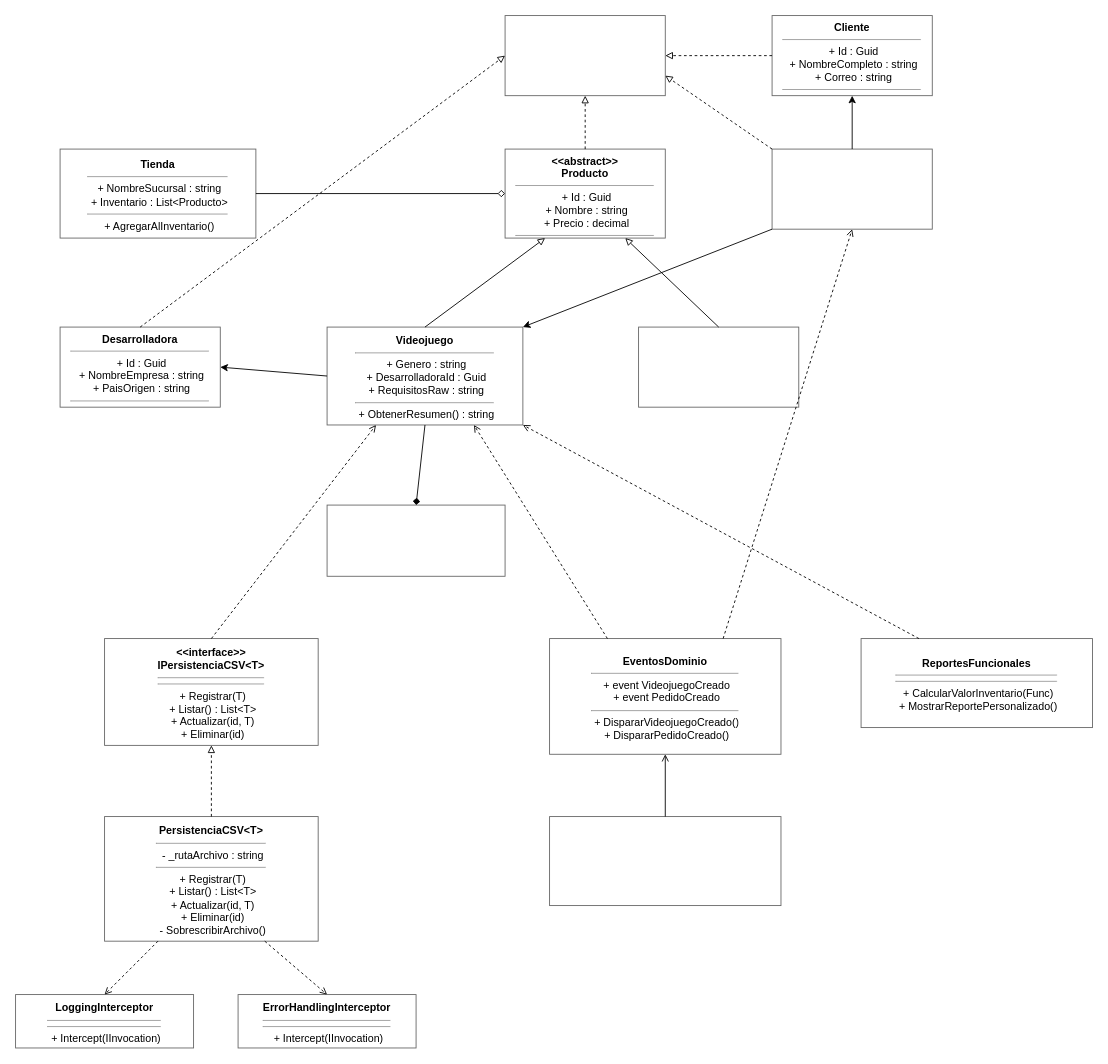
Some shapes in this 1108 by 1064 pixel diagram are drawn without their labels. The shapes that lost their labels are listed below. From the top down, each one's centre as x and y in pixels, then its label:
At (x=584, y=55): "<<interface>> IEntidad + Id : Guid + ObtenerResumen() : string".
At (x=851, y=188): "Pedido + Id : Guid + ClienteId : Guid + Total : decimal + MostrarPedido() : void".
At (x=718, y=366): "Consola + Fabricante : string + ObtenerResumen() : string".
At (x=415, y=540): "<<record>> RequisitoSistema + Componente : string + Especificacion : string".
At (x=665, y=861): "NotificadorEventos + Suscribir() - AlVideojuegoCreado() - AlPedidoCreado()".
